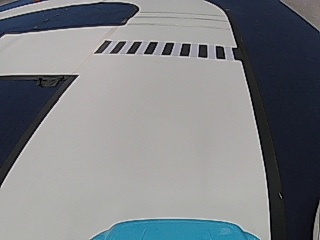CrossWalk: (94, 40, 240, 61)
